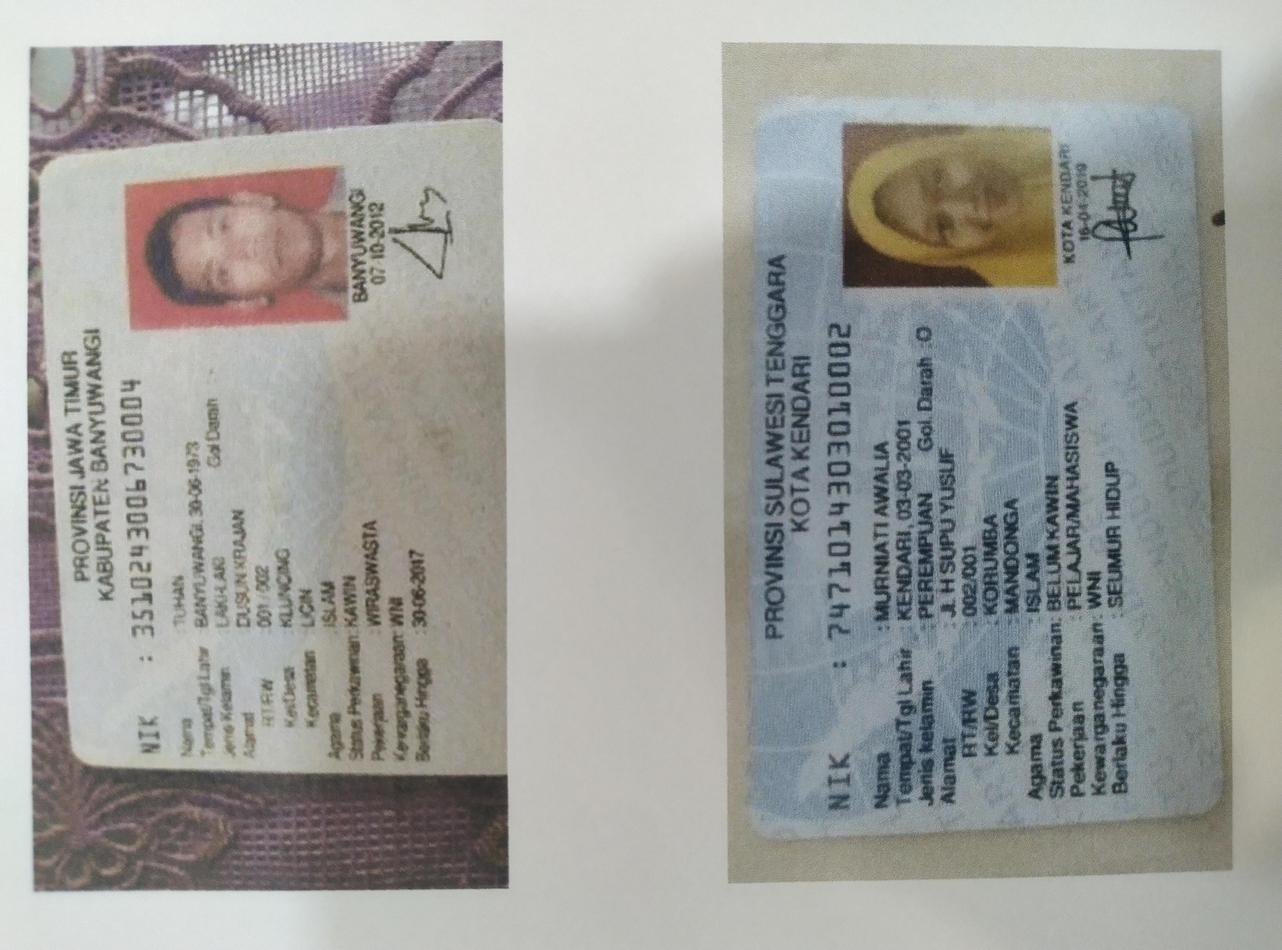ID-card: (173, 562, 1139, 902), (237, 33, 1116, 374)
